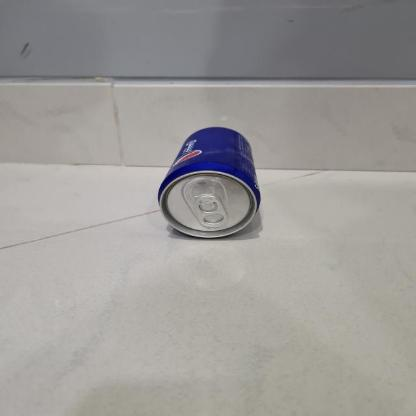Can: (154, 125, 260, 237)
